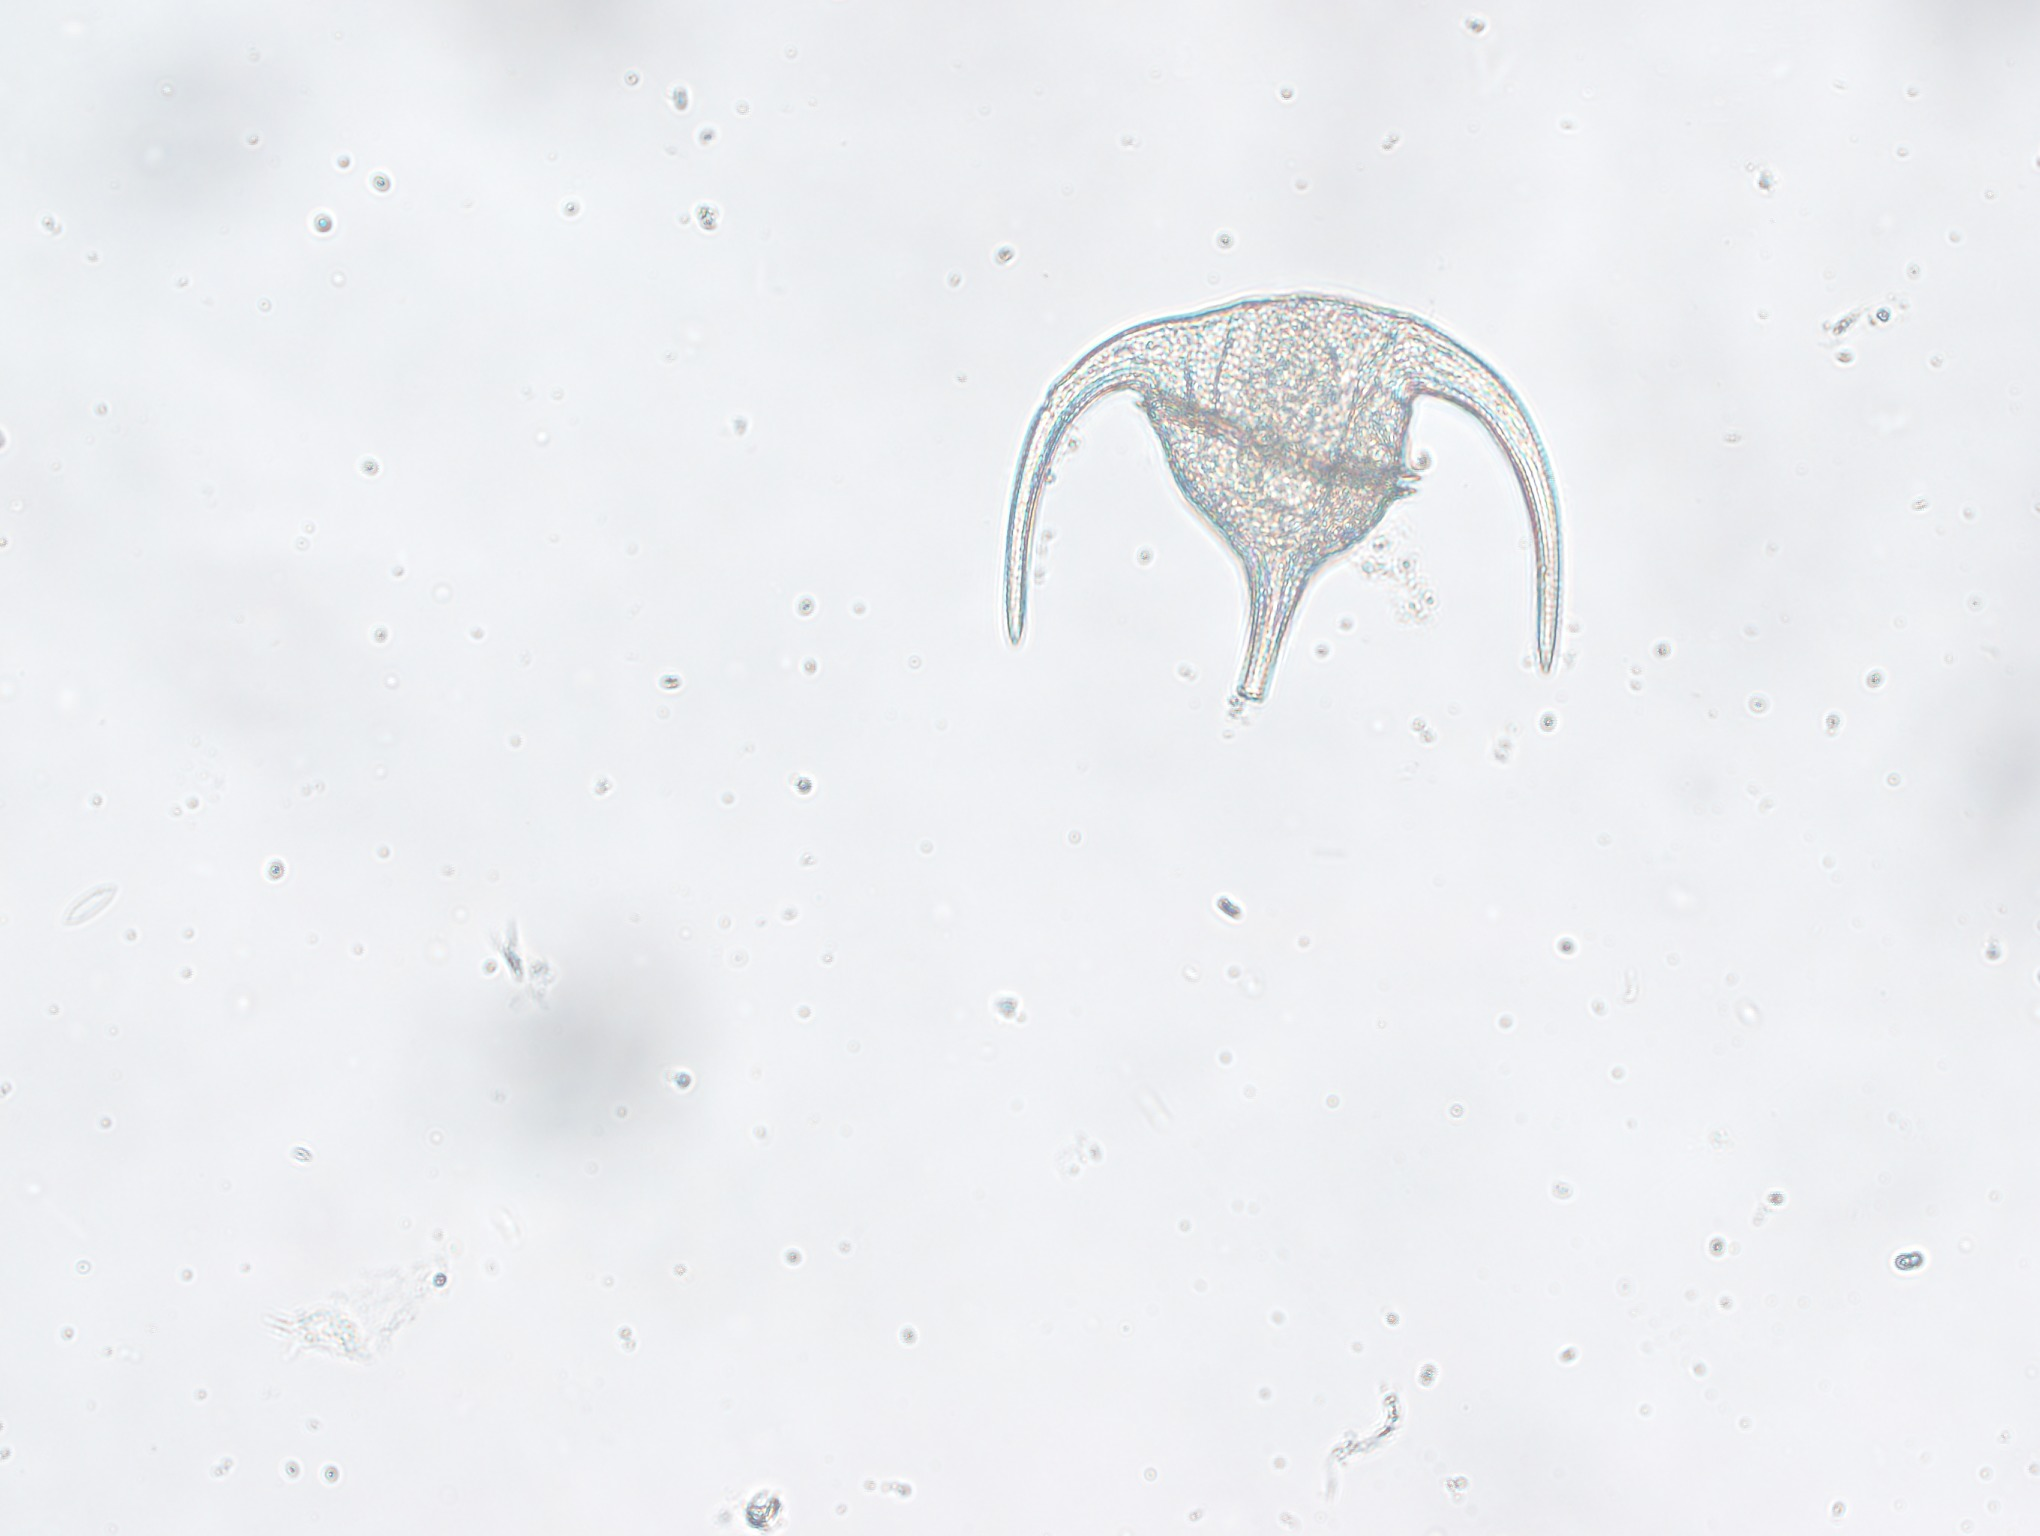ceratium tripos: (987, 286, 1595, 708)
